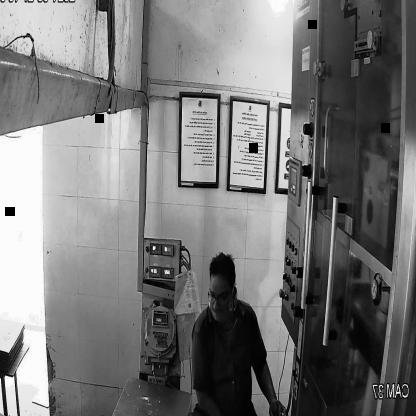goggles: (204, 283, 236, 309)
